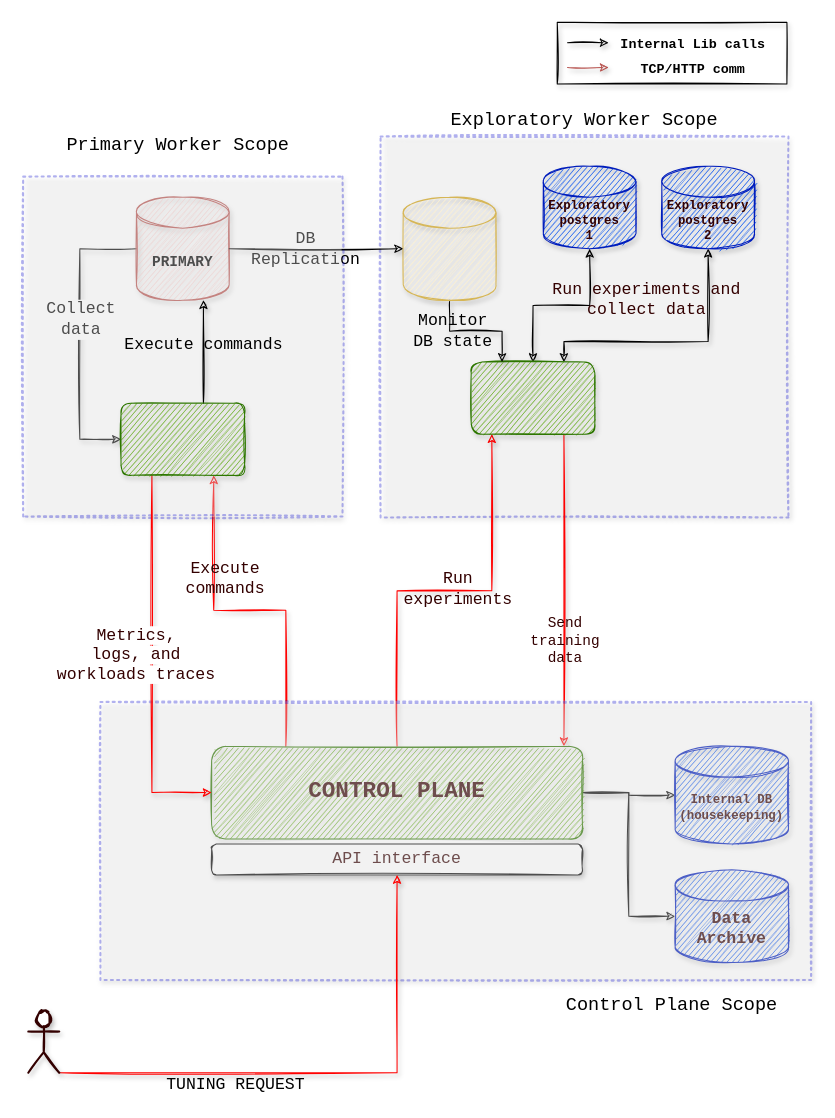
The diagram is 835 pixels wide and 1118 high, and some of its shapes have lost their labels. The shapes that lost their labels are listed below. From the top down, each one's centre as x and y in pixels, then its label:
At [450,249]: "REPLICA".
At [533,399]: "EXPLORATORY WORKER".
At [183,440]: "PRIMARY WORKER".
At [44,1042]: "User".
